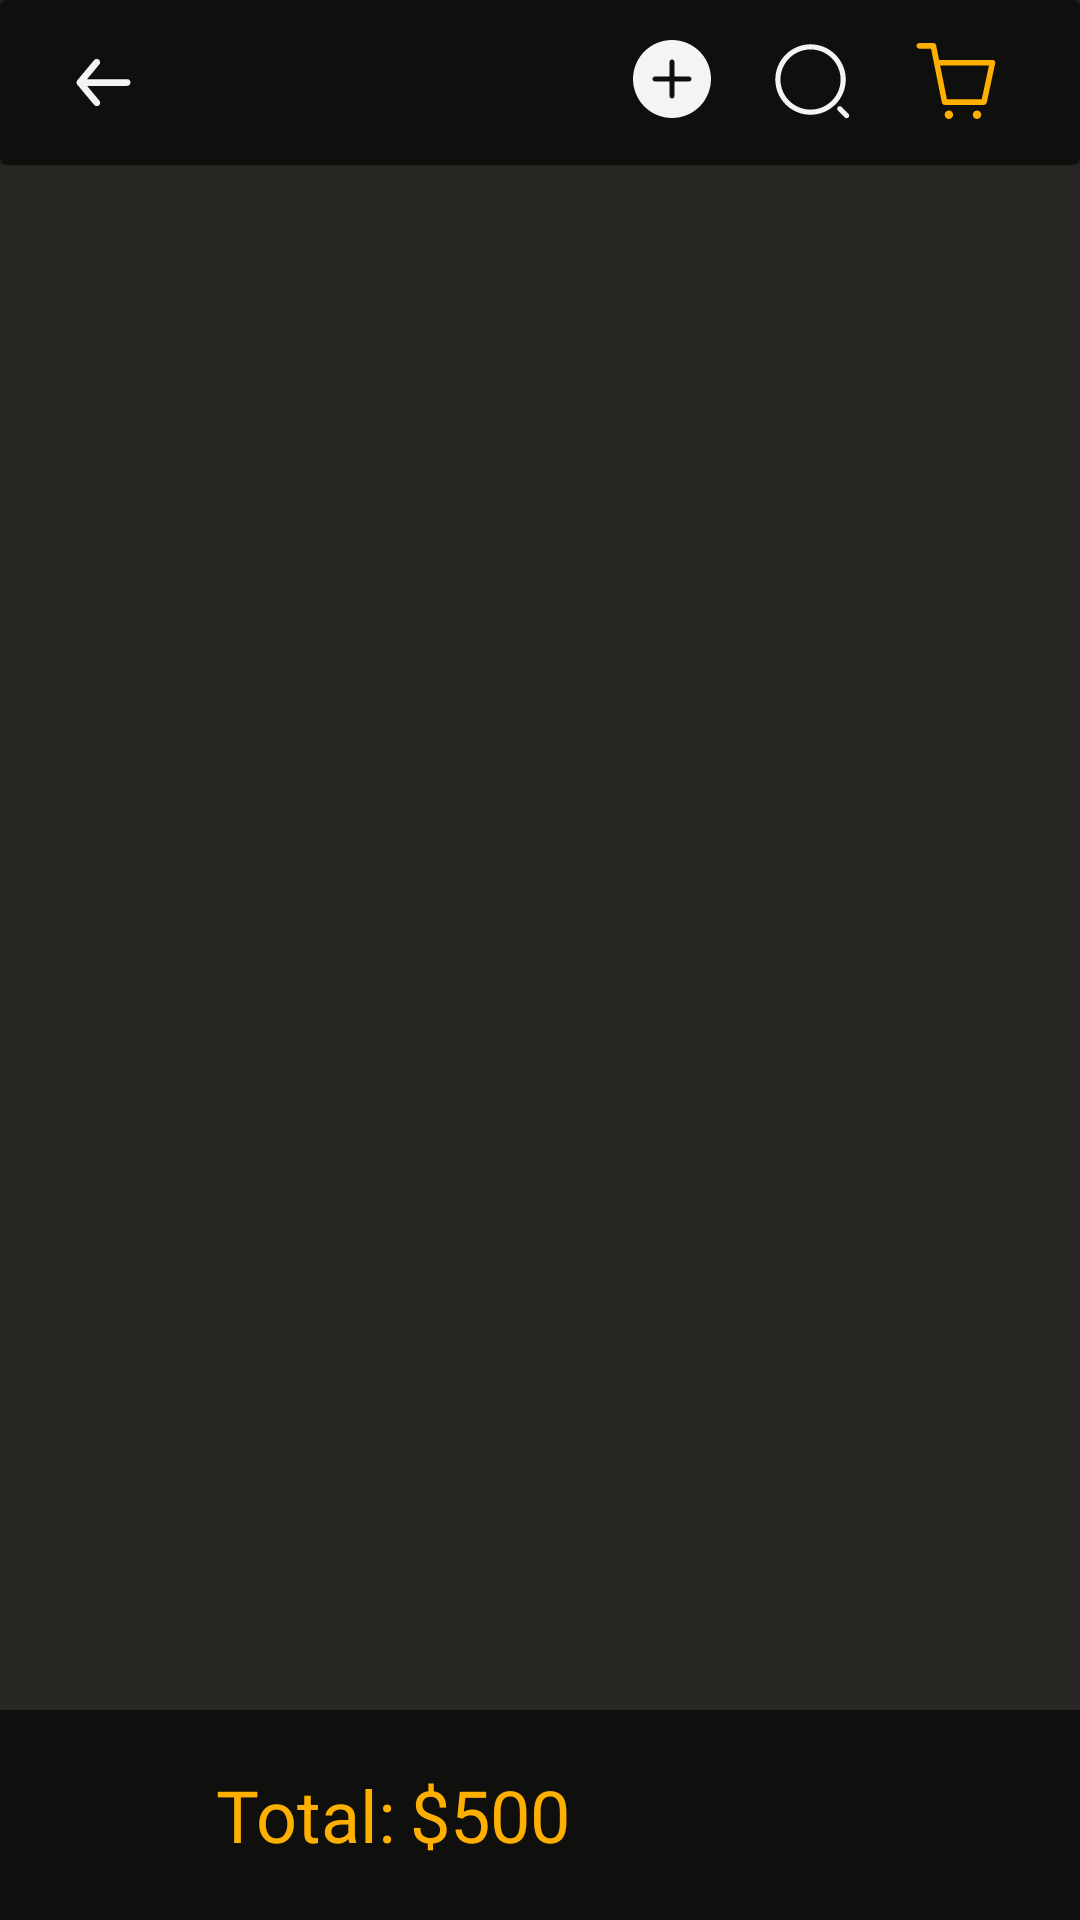

Named icons in this screenshot (1080*1920) and their centers, (x,y):
cart menu: (956,81)
plus sign mainscreen: (672,79)
search: (812,81)
